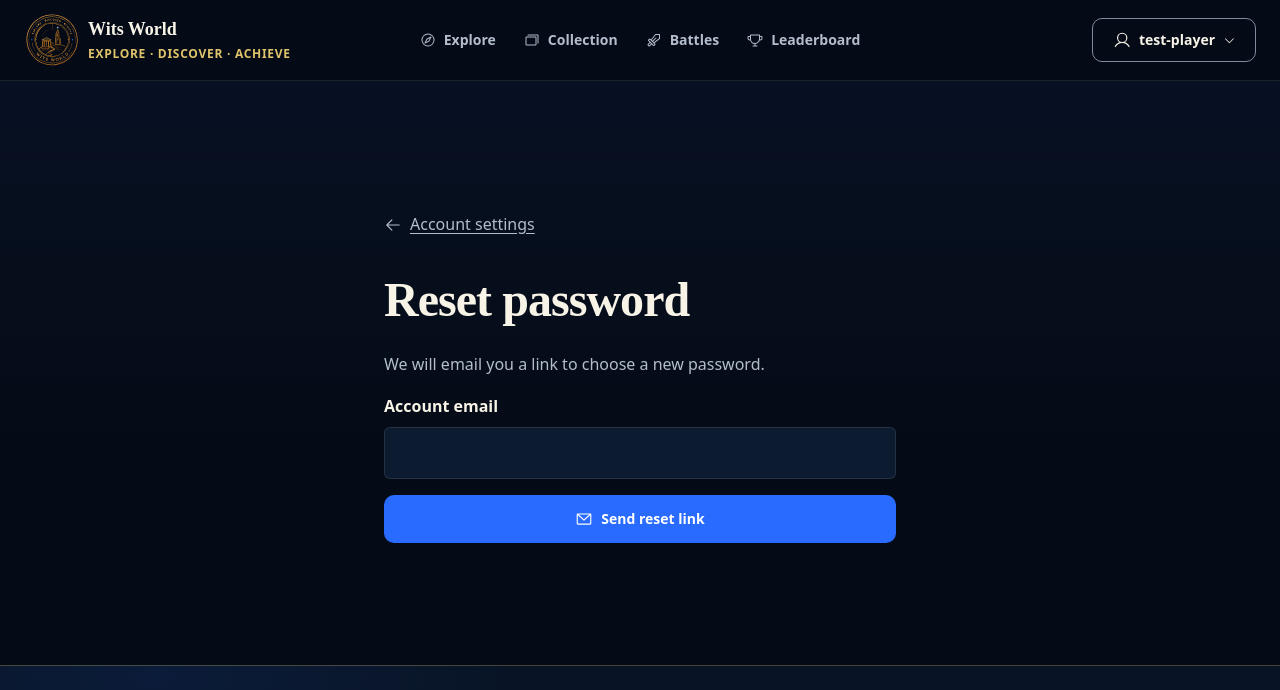
player account page › explains a rate-limited password-reset request
In the field labelled "Account email": (640,453) [384, 427, 896, 479], type "player@example.test"
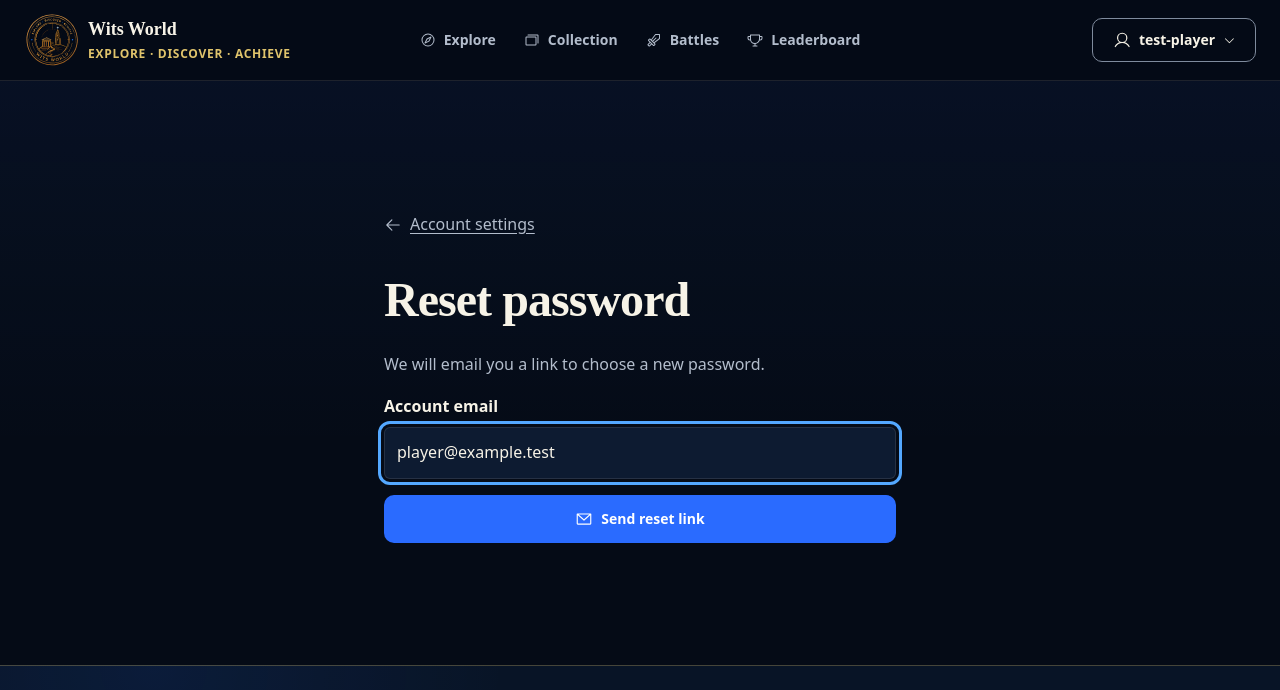
Click the button "Send reset link": (640,519) [384, 495, 896, 543]
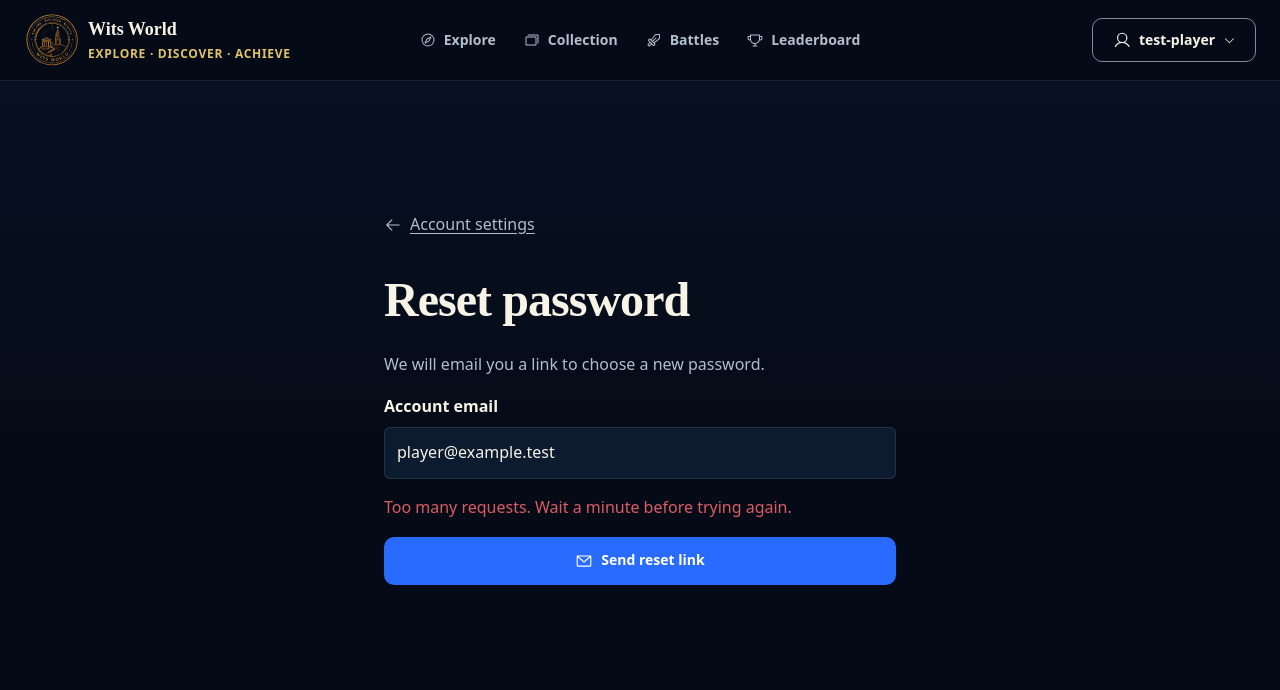
Expected: the button "Send reset link" is enabled, [384, 537, 896, 585]
Expected: the message shows "Too many requests", [384, 496, 792, 518]
